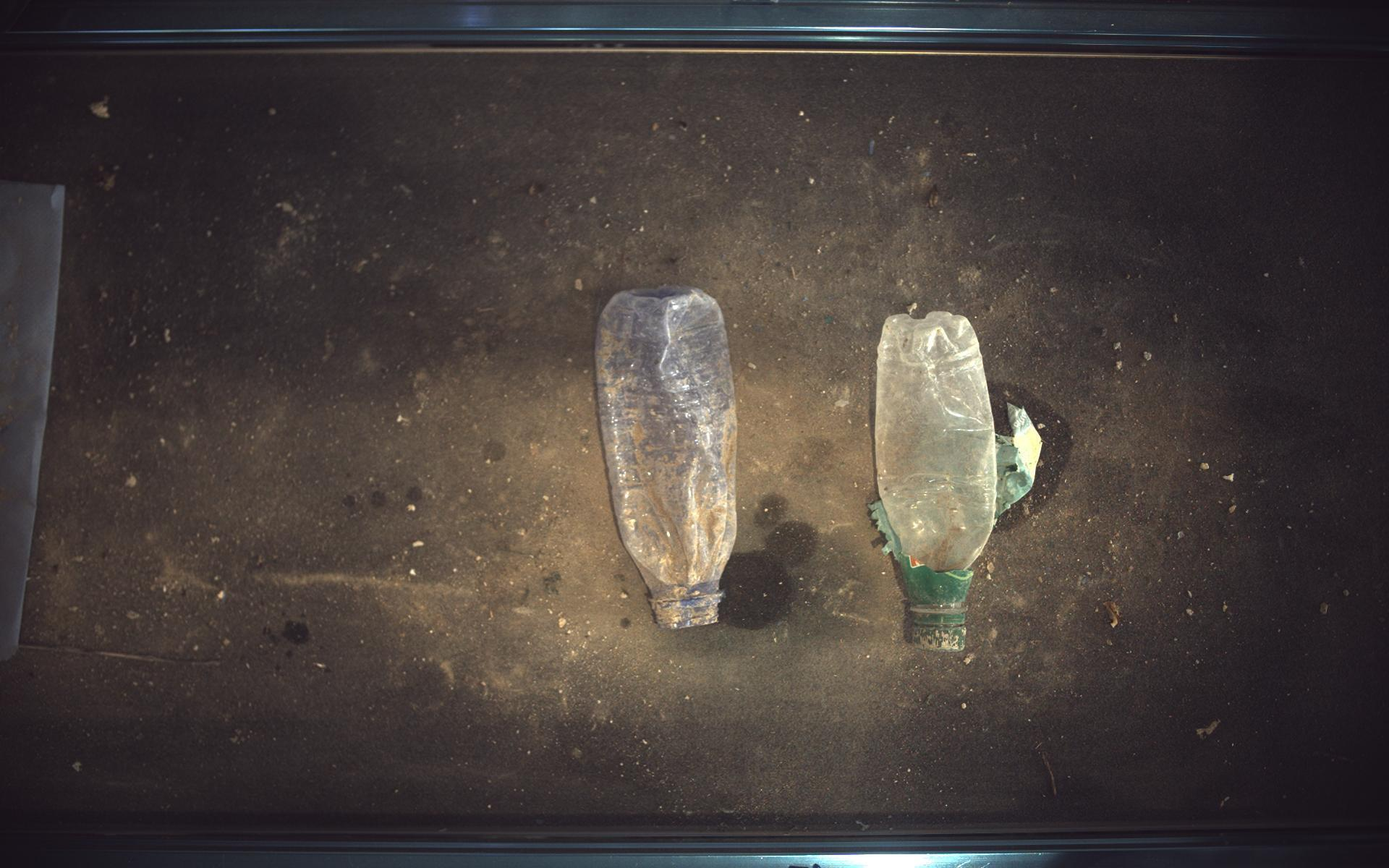general_w: (872, 311, 1044, 652), (596, 286, 738, 629)
